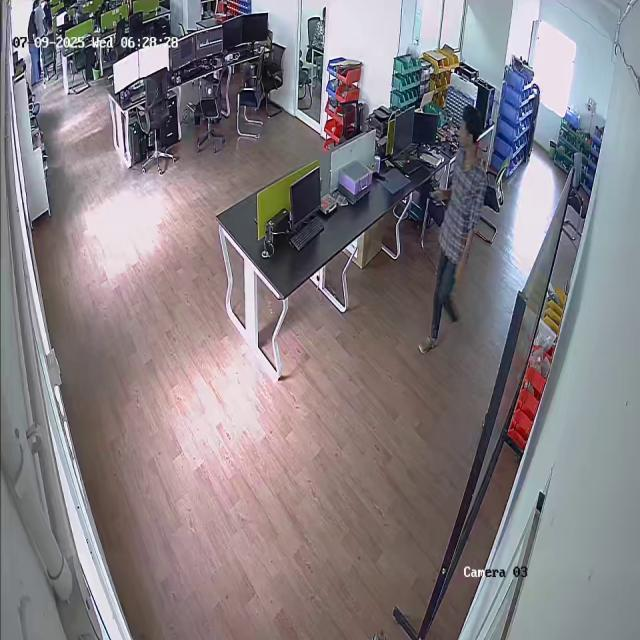person: (419, 104, 491, 354)
